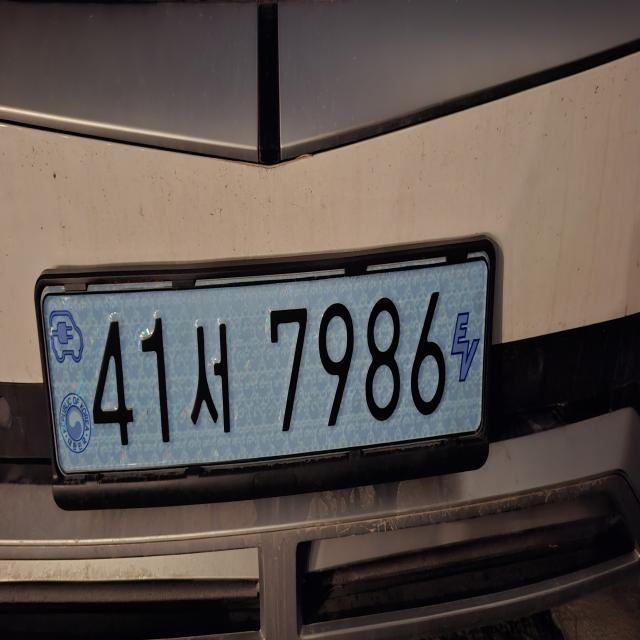car: (18, 217, 554, 531)
carev: (40, 294, 93, 476), (448, 261, 483, 430)
